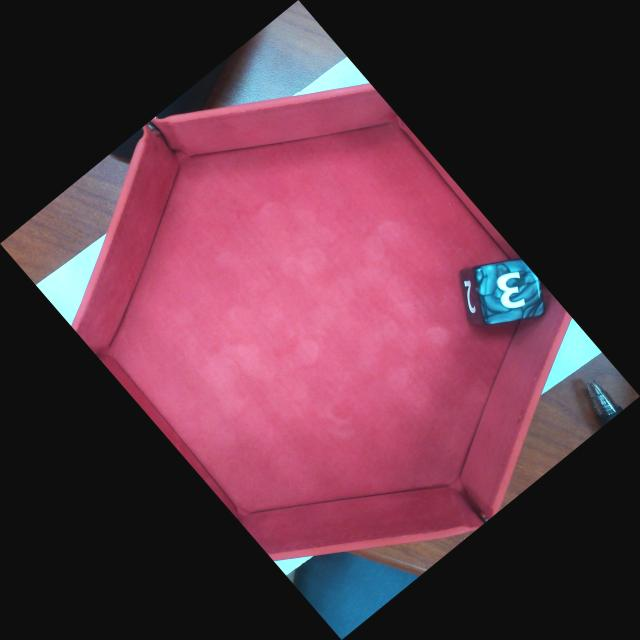dice: (473, 258, 546, 325)
